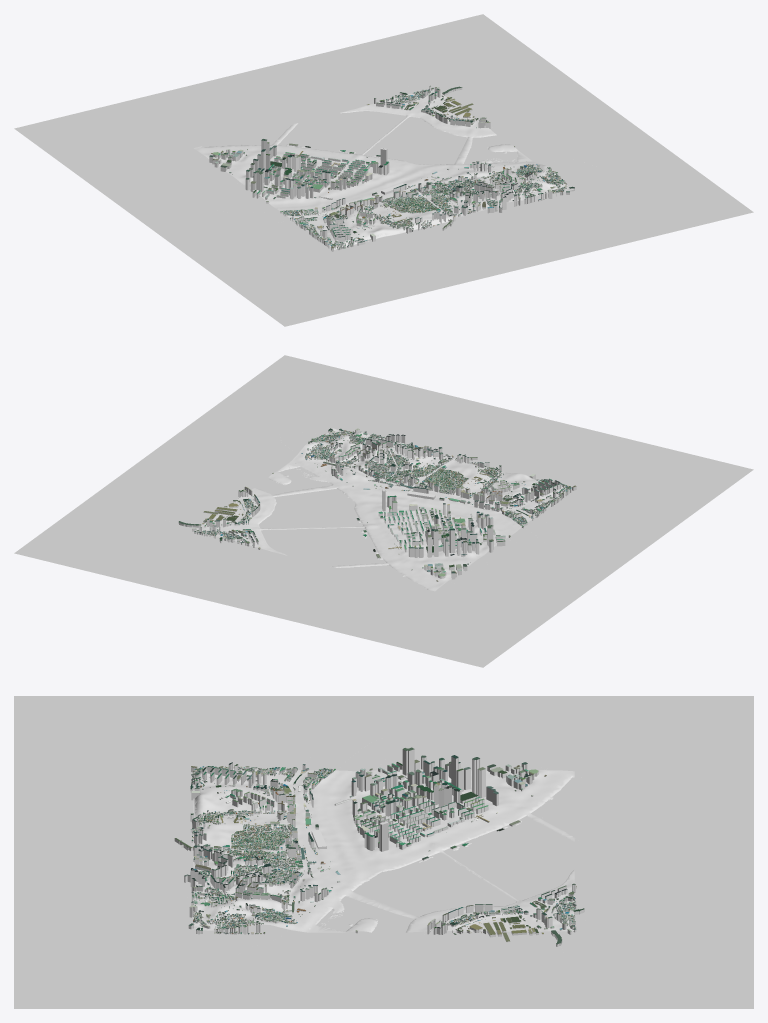
The model's file is yeouido_63.fbx.
3 views of the same model, one above another, from view 1: azimuth 30°, elevation 25°; view 2: azimuth 150°, elevation 25°; view 3: azimuth 270°, elevation 25° (orthographic). The views are drawn at different scales.
Visible parts, largest first — view 1: SEA, BUILDINGS, TERRAIN; view 2: SEA, TERRAIN, BUILDINGS; view 3: SEA, BUILDINGS, TERRAIN.
Part boxes in pixels (box(x1,y1,x2,y2)): SEA: box(14, 14, 753, 326); BUILDINGS: box(209, 85, 574, 251); TERRAIN: box(194, 89, 573, 249); SEA: box(14, 355, 753, 667); TERRAIN: box(194, 428, 565, 591); BUILDINGS: box(178, 428, 576, 581); SEA: box(14, 696, 753, 1008); BUILDINGS: box(174, 747, 584, 946); TERRAIN: box(193, 768, 574, 932).
Bounding box in the file's own units: 618890 × 36572 × 618890.
